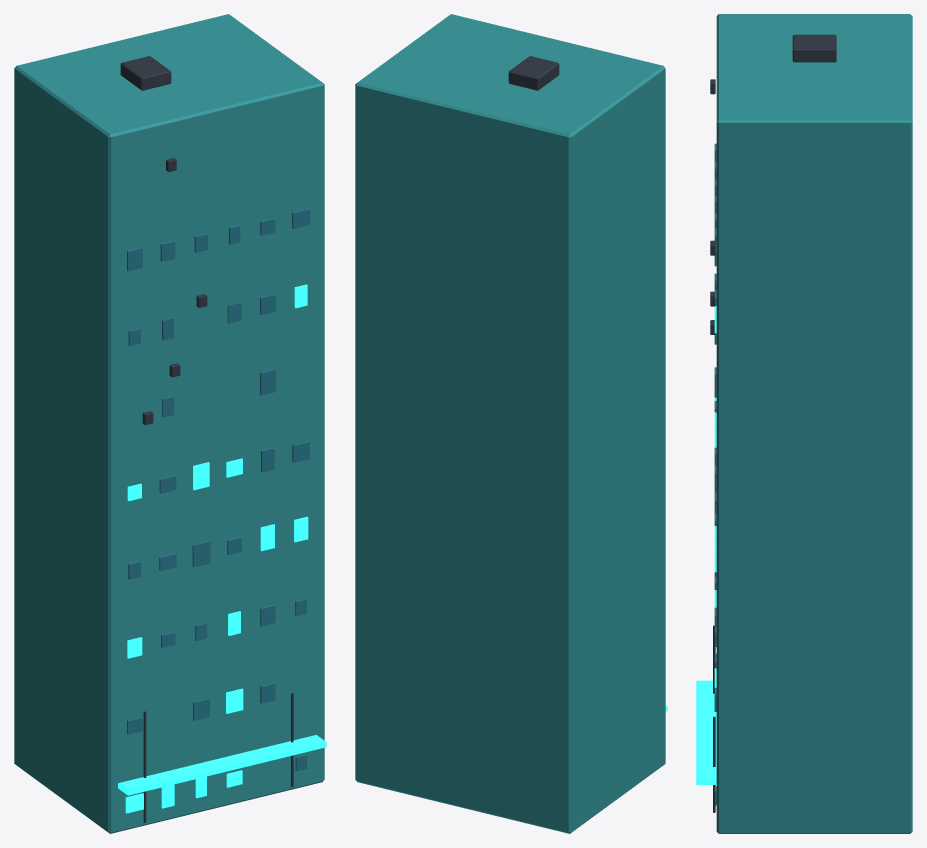
The model's file is building_008_seed100.glb.
3 renders of one model, left to right at view 1: azimuth 30°, elevation 25°; view 2: azimuth 150°, elevation 25°; view 3: azimuth 270°, elevation 25°, orthographic. The views are drawn at different scales.
Visible parts, largest first — view 1: building_008_seed100; view 2: building_008_seed100; view 3: building_008_seed100.
Boxes of the visible parts, box(x1,y1,x2,y2) form: building_008_seed100: box(14, 14, 326, 833); building_008_seed100: box(355, 14, 667, 833); building_008_seed100: box(696, 14, 912, 833).
Size of the model in its own units: 8.64 by 27.19 by 7.32.
